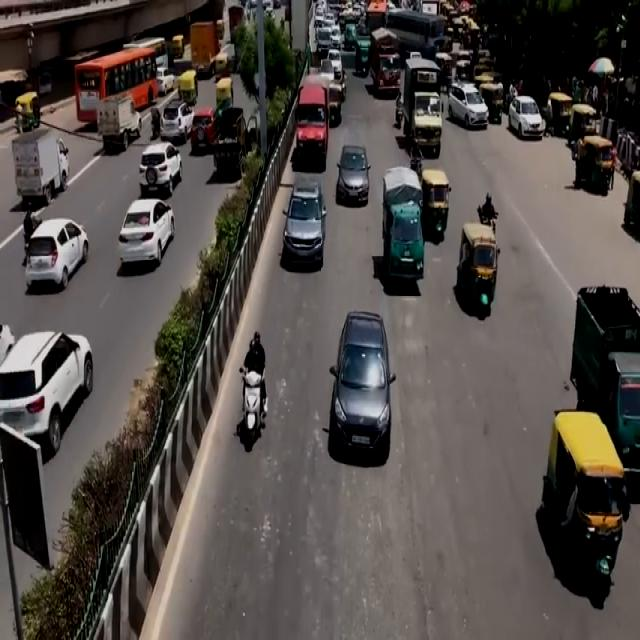BUS: (72, 42, 158, 150)
MOTORCYCLE: (239, 368, 265, 452)
TRUCK: (381, 170, 421, 294), (399, 57, 444, 161), (14, 128, 71, 204)
